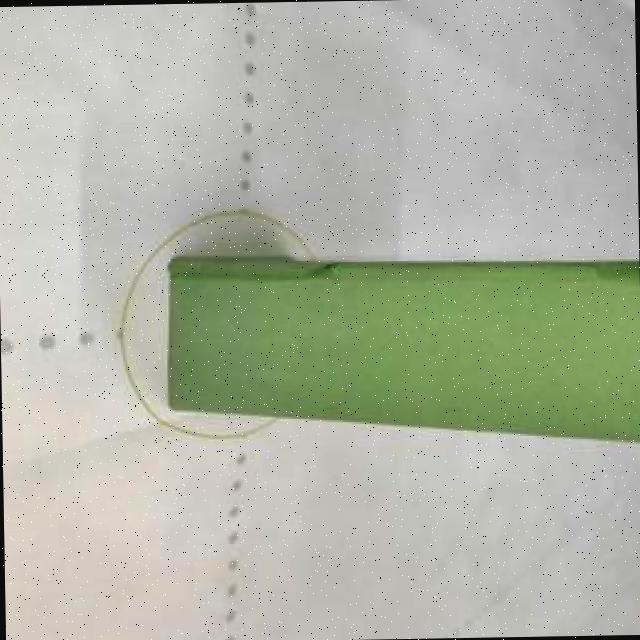greenbox: (170, 255, 640, 412)
